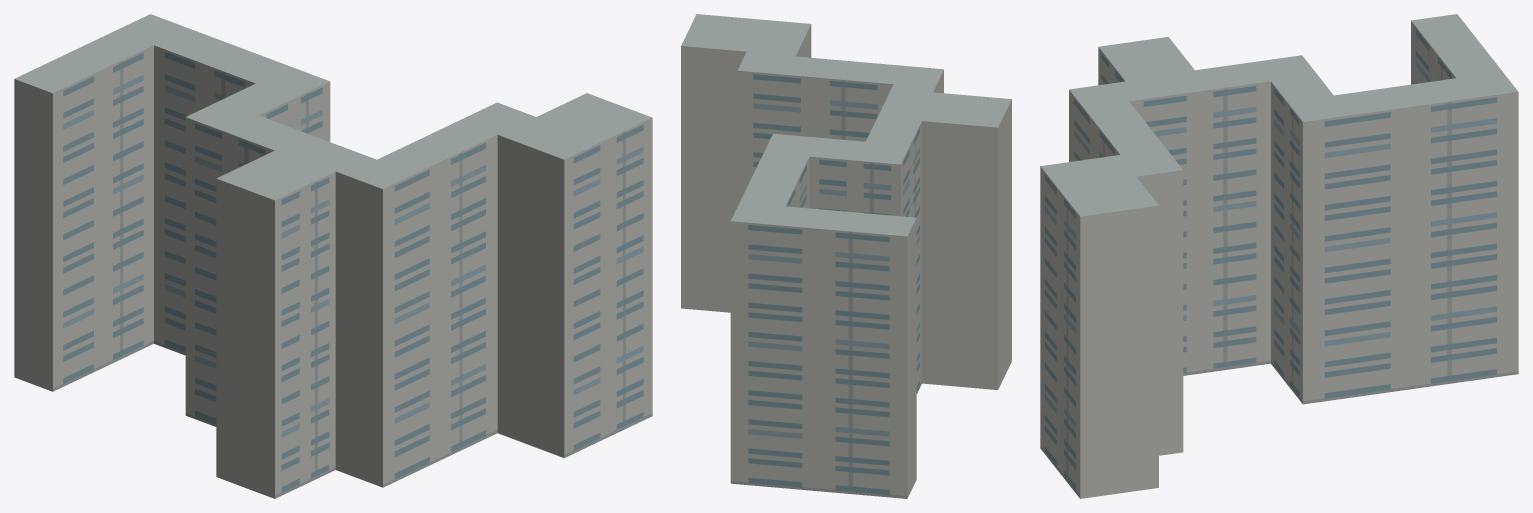
The model's file is residential-064c913f-61e0-42f0-8b31-169349baab49.glb.
3 renders of one model, left to right at view 1: azimuth 30°, elevation 25°; view 2: azimuth 150°, elevation 25°; view 3: azimuth 270°, elevation 25°, orthographic. The views are drawn at different scales.
Visible parts, largest first — view 1: residential-064c913f-61e0-42f0-8b31-169349baab49.tmp; view 2: residential-064c913f-61e0-42f0-8b31-169349baab49.tmp; view 3: residential-064c913f-61e0-42f0-8b31-169349baab49.tmp.
Boxes of the visible parts, x1,y1,x2,y2 form: residential-064c913f-61e0-42f0-8b31-169349baab49.tmp: [14, 14, 652, 498]; residential-064c913f-61e0-42f0-8b31-169349baab49.tmp: [681, 14, 1011, 498]; residential-064c913f-61e0-42f0-8b31-169349baab49.tmp: [1040, 14, 1518, 498].
Bounding box in the file's own units: 120 × 78 × 120.
